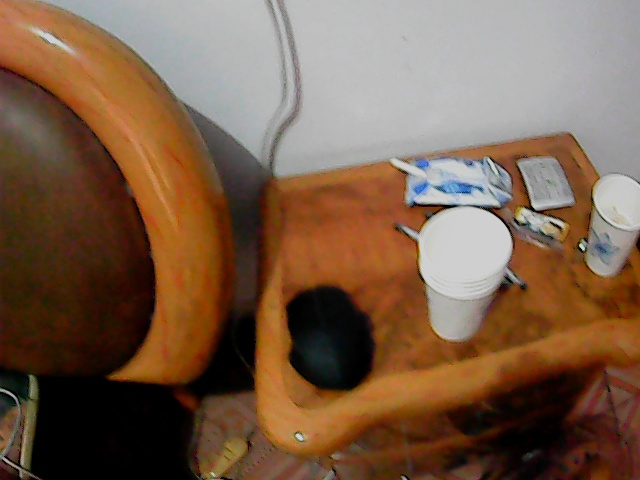cup: (418, 205, 513, 348)
mouse: (281, 281, 374, 393)
